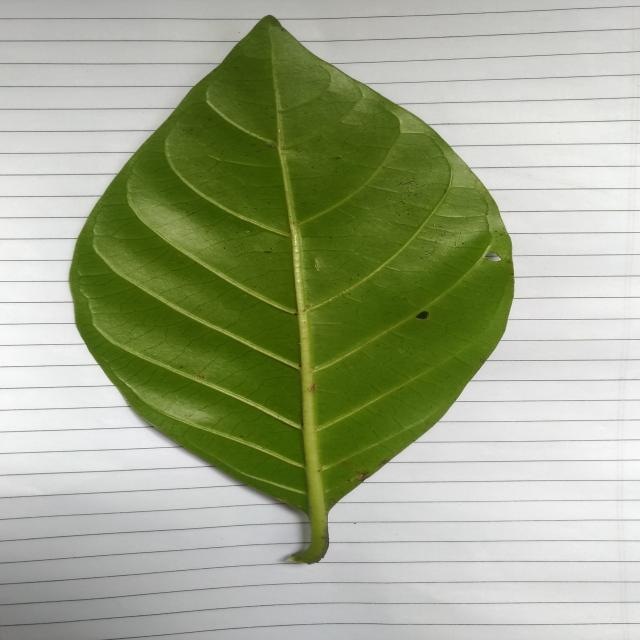nooni: (69, 16, 513, 564)
